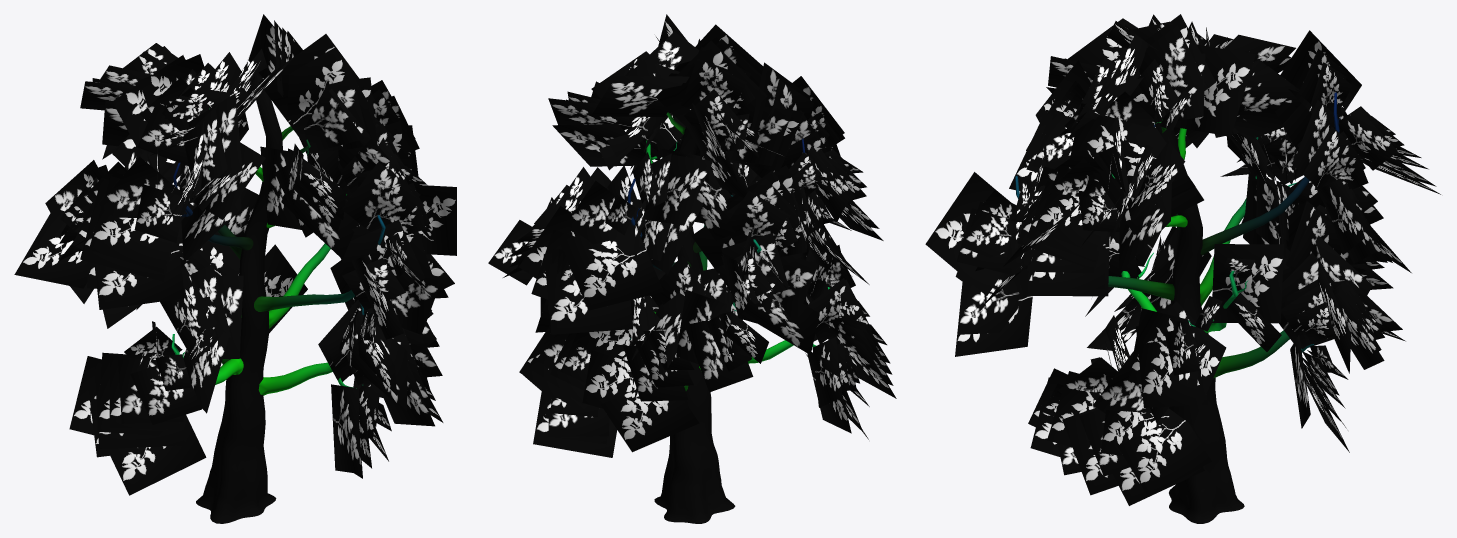
File: SM_testTree.fbx
The picture shows the model from 3 angles, left to right: view 1: azimuth 30°, elevation 25°; view 2: azimuth 150°, elevation 25°; view 3: azimuth 270°, elevation 25°; orthographic projection. The views are drawn at different scales.
Visible parts, largest first — view 1: Tree_1, Tree_0; view 2: Tree_1, Tree_0; view 3: Tree_1, Tree_0.
Boxes of the visible parts, x1=… form: Tree_1: x1=14, y1=14, x2=456, y2=495; Tree_0: x1=171, y1=74, x2=385, y2=523; Tree_1: x1=488, y1=14, x2=896, y2=457; Tree_0: x1=627, y1=112, x2=829, y2=523; Tree_1: x1=925, y1=14, x2=1440, y2=505; Tree_0: x1=1015, y1=92, x2=1340, y2=523.
Bounding box in the file's own units: 181 × 217 × 202.
1 material, 1 textured.
